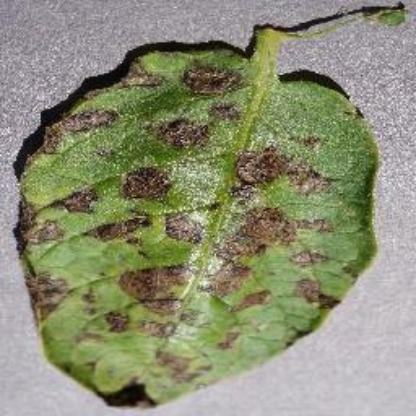Early-Blight: (16, 12, 382, 408)
